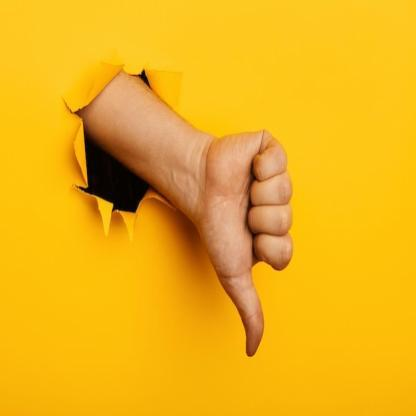thumb_down: (201, 126, 297, 362)
